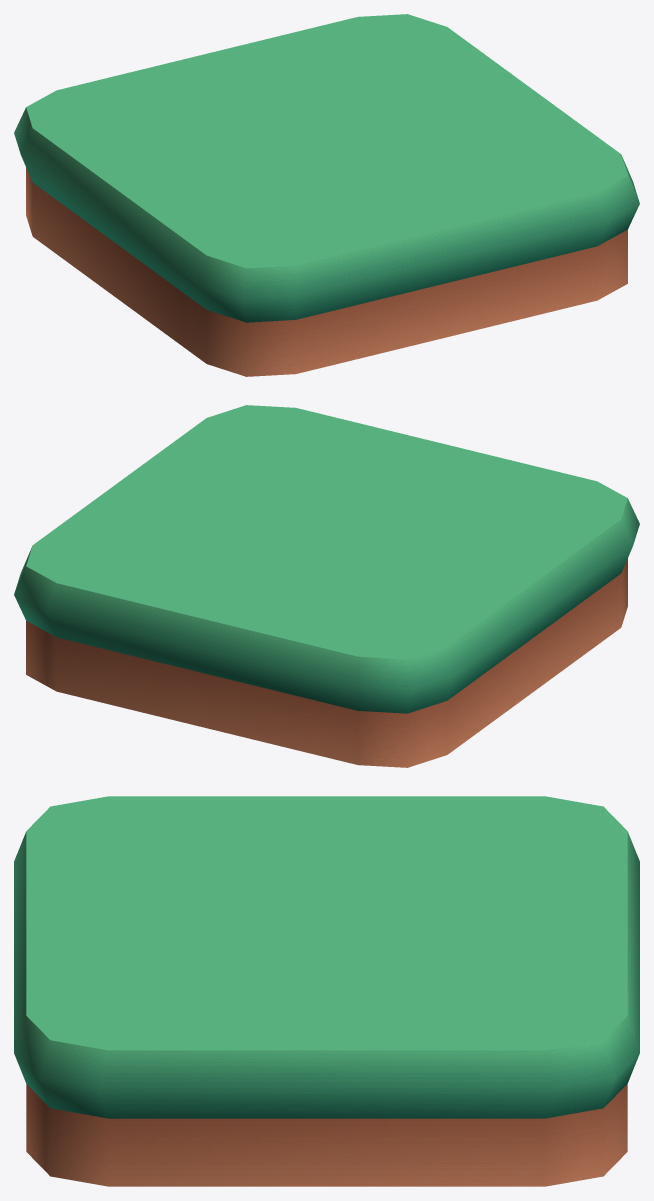
File: block-grass-low-large.glb
3 views of the same model, one above another, from view 1: azimuth 30°, elevation 25°; view 2: azimuth 150°, elevation 25°; view 3: azimuth 270°, elevation 25° (orthographic). The views are drawn at different scales.
Parts seen in each view (by area): view 1: block-grass-low-large; view 2: block-grass-low-large; view 3: block-grass-low-large.
Part boxes in pixels (left/top/right/bottom): block-grass-low-large: left=14, top=14, right=639, bottom=376; block-grass-low-large: left=14, top=405, right=639, bottom=767; block-grass-low-large: left=14, top=796, right=639, bottom=1186.
Bounding box in the file's own units: 2.08 × 0.5 × 2.08.
1 material, 1 textured.
